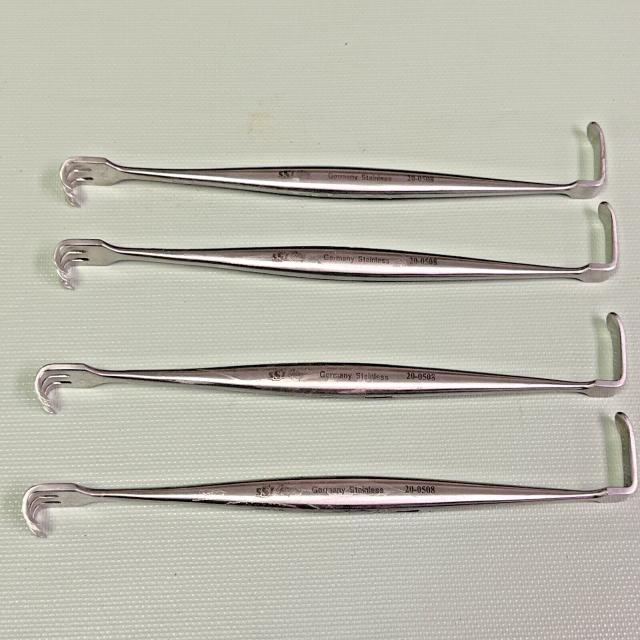Senn Retractor: (20, 406, 638, 540), (26, 298, 628, 414), (42, 108, 609, 215), (46, 199, 620, 293)
